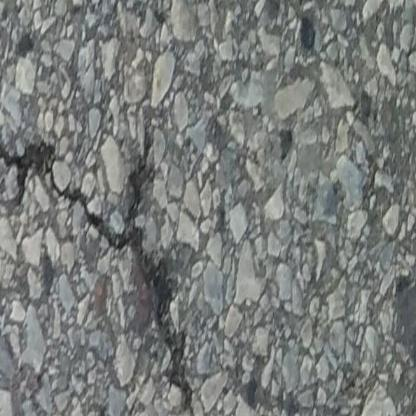Cracks: (0, 114, 201, 416)
